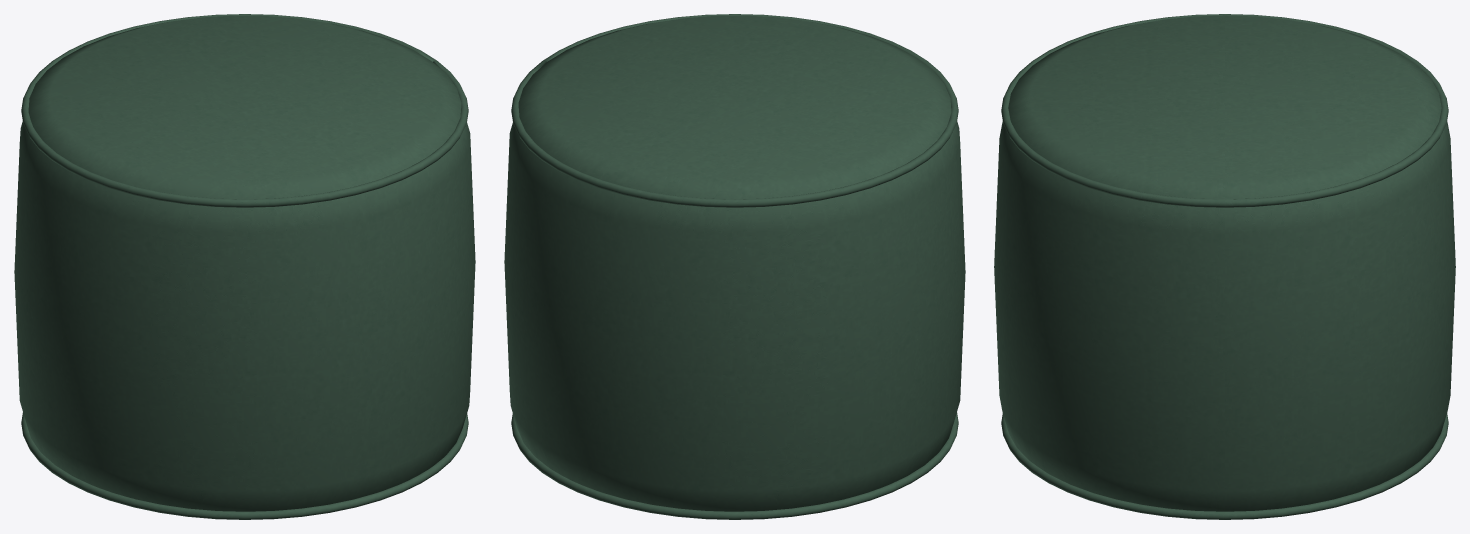
Rendered from puf_redondo_verde.glb.
3 renders of one model, left to right at view 1: azimuth 30°, elevation 25°; view 2: azimuth 150°, elevation 25°; view 3: azimuth 270°, elevation 25°, orthographic.
Parts seen in each view (by area): view 1: puf_redondo_verde; view 2: puf_redondo_verde; view 3: puf_redondo_verde.
Part boxes in pixels (x1,y1,x2,y2): puf_redondo_verde: [14, 14, 475, 519]; puf_redondo_verde: [504, 14, 965, 519]; puf_redondo_verde: [994, 14, 1455, 519].
Size of the model in its own units: 0.52 by 0.42 by 0.52.
Materials: 1 (1 with a texture image).
